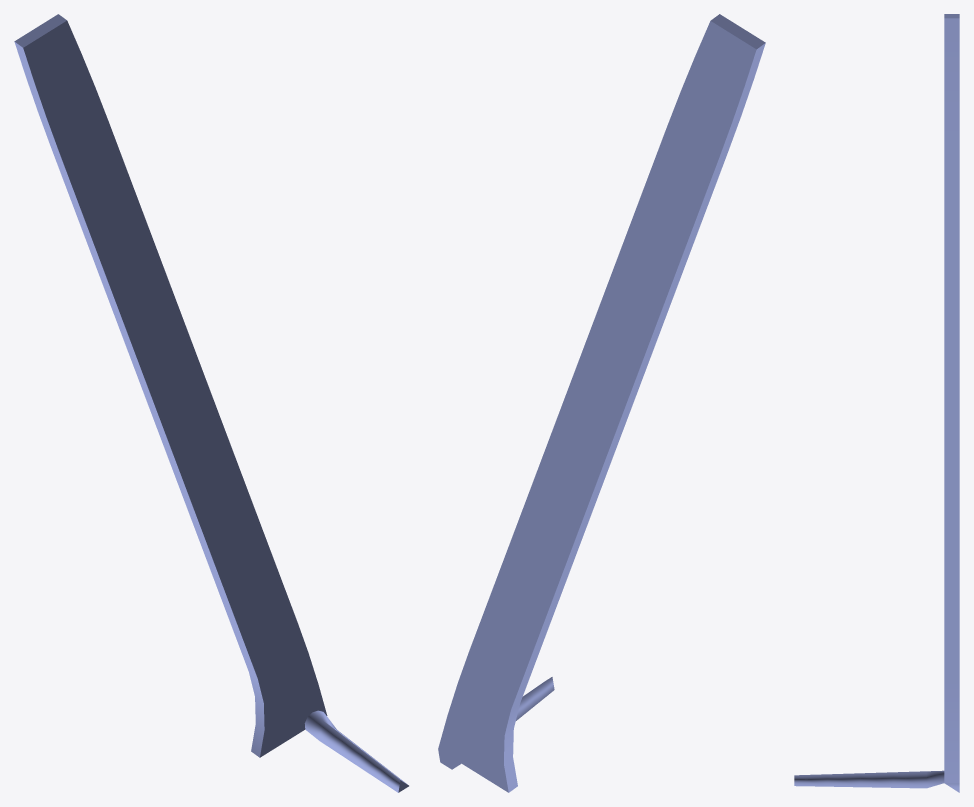
The model's file is Copie de Piece droite 1^Copie de Ass piece plan 2_Horloge Comtoise Verge - Sonnerie.obj.
3 renders of one model, left to right at view 1: azimuth 30°, elevation 25°; view 2: azimuth 150°, elevation 25°; view 3: azimuth 270°, elevation 25°, orthographic. The views are drawn at different scales.
Visible parts, largest first — view 1: Face_11, Face_6, Face_9, Face_5, Face_7; view 2: Face_1, Face_6, Face_5, Face_7, Face_9, Face_4; view 3: Face_2, Face_9, Face_3, Face_10.
Part boxes in pixels (<box>): Face_11: <box>23,21,327,757</box>; Face_6: <box>51,147,257,677</box>; Face_9: <box>304,710,407,792</box>; Face_5: <box>14,41,59,152</box>; Face_7: <box>249,672,264,757</box>; Face_1: <box>438,21,756,792</box>; Face_6: <box>511,153,727,709</box>; Face_5: <box>719,43,765,158</box>; Face_7: <box>504,703,520,792</box>; Face_9: <box>516,677,554,720</box>; Face_4: <box>711,14,765,49</box>; Face_2: <box>944,132,959,683</box>; Face_9: <box>794,770,959,792</box>; Face_3: <box>944,18,959,132</box>; Face_10: <box>944,684,959,783</box>.
Bounding box in the file's own units: 0.0318 × 0.0783 × 0.0173.
